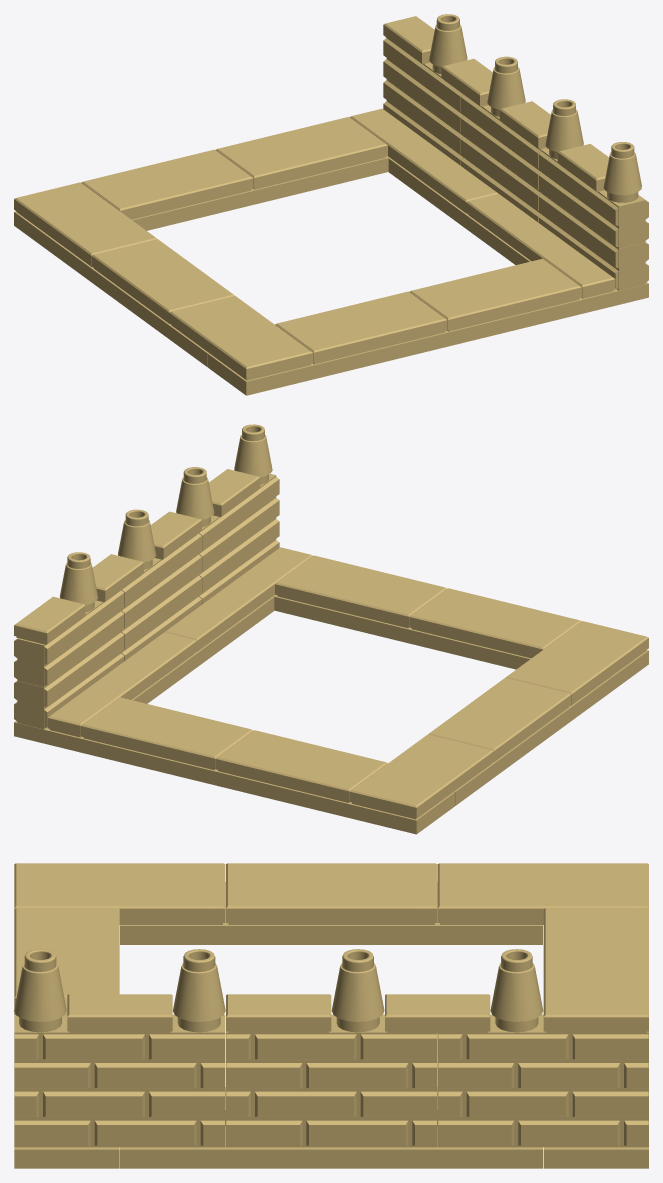
File: castleOpenWithHole.fbx
3 views of the same model, one above another, from view 1: azimuth 30°, elevation 25°; view 2: azimuth 150°, elevation 25°; view 3: azimuth 270°, elevation 25° (orthographic). The views are drawn at different scales.
Visible parts, largest first — view 1: Wall, Ground, Ground.001, Ground.002, GroundWall; view 2: Wall, Ground, Ground.002, Ground.001, GroundWall; view 3: Wall, Ground, Ground.002, Ground.001, GroundWall.
Part boxes in pixels (left/top/right/bottom): Wall: left=383, top=14, right=648, bottom=290; Ground: left=14, top=182, right=313, bottom=380; Ground.001: left=208, top=258, right=648, bottom=395; Ground.002: left=14, top=117, right=389, bottom=253; GroundWall: left=350, top=108, right=615, bottom=298; Wall: left=14, top=424, right=279, bottom=729; Ground: left=349, top=621, right=648, bottom=819; Ground.002: left=14, top=697, right=454, bottom=834; Ground.001: left=273, top=555, right=648, bottom=692; GroundWall: left=47, top=547, right=312, bottom=737; Wall: left=14, top=949, right=648, bottom=1147; Ground: left=14, top=863, right=648, bottom=944; Ground.002: left=543, top=908, right=648, bottom=1168; Ground.001: left=14, top=908, right=119, bottom=1168; GroundWall: left=120, top=1087, right=542, bottom=1168.
Size of the model in its own units: 9596 by 3378 by 9596.
